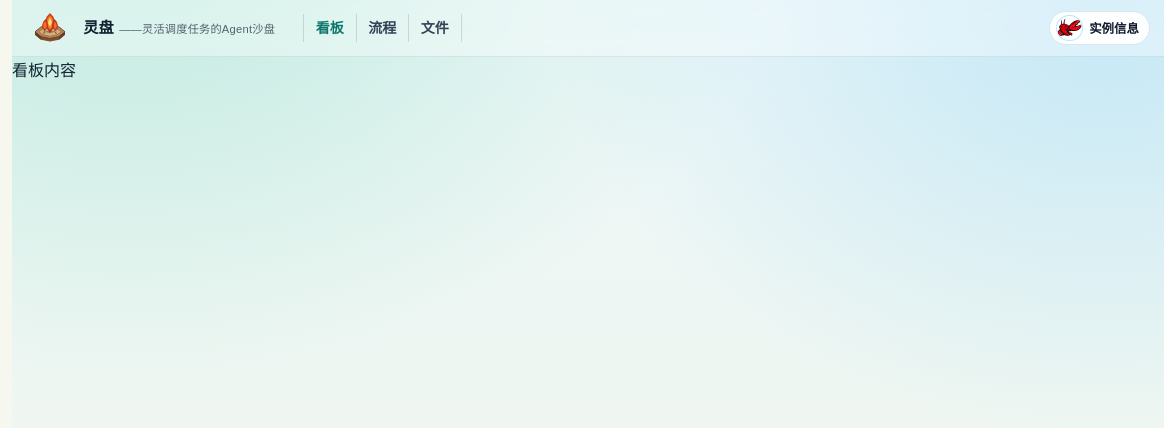
Scenario: Layout › falls back to /flow/edit/new when cached flow path is malformed
Click the link "流程": click(382, 28) x1=368 y1=20 x2=396 y2=36
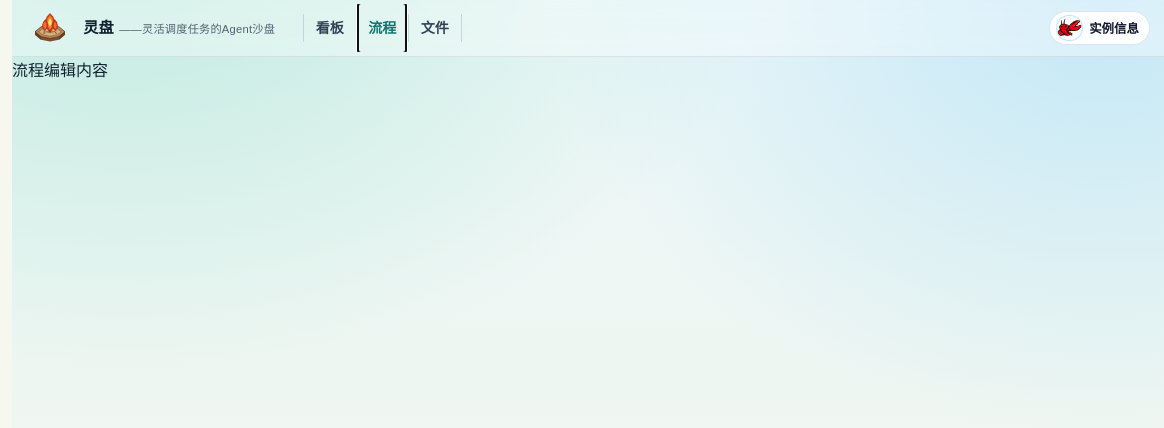
Expected: the element with test id "layout-main-shell" reads "流程编辑内容", x1=12 y1=62 x2=108 y2=79
